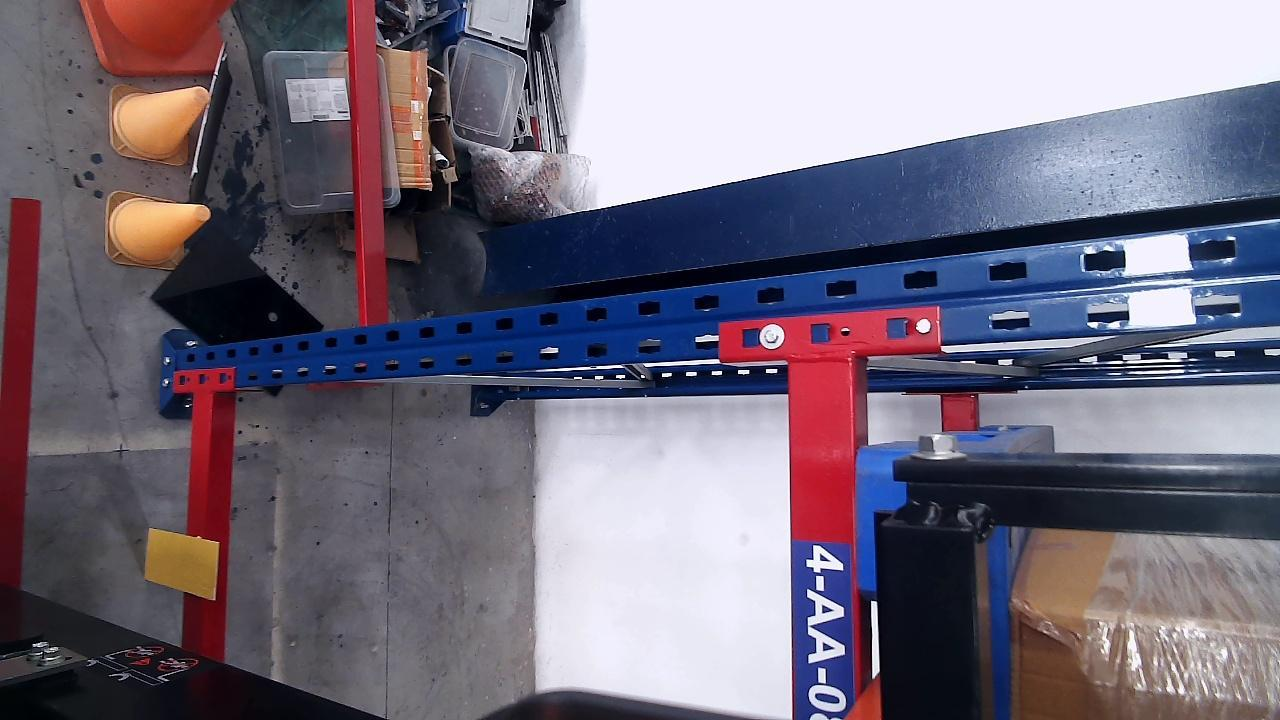h_rack: (789, 354, 856, 720), (183, 389, 212, 652)
orange_strip: (141, 524, 218, 599)
red_line: (2, 196, 41, 592)
